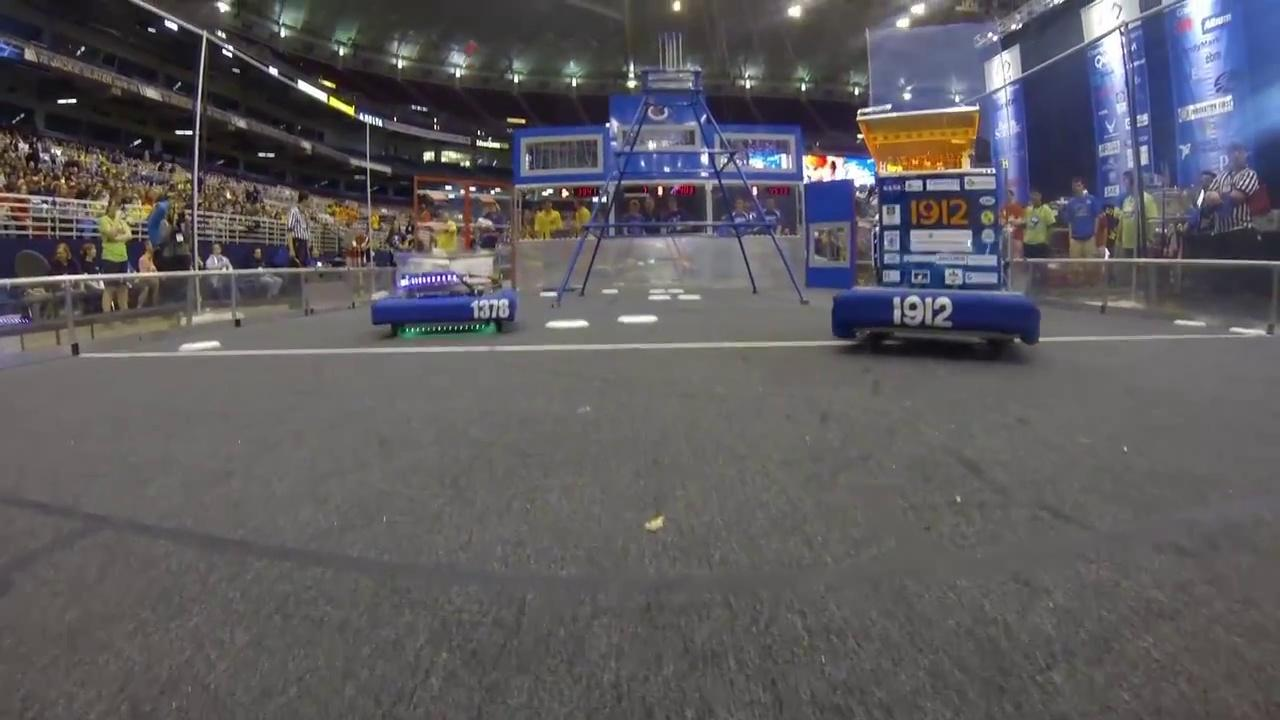robot: (828, 103, 1041, 362), (368, 244, 526, 344)
